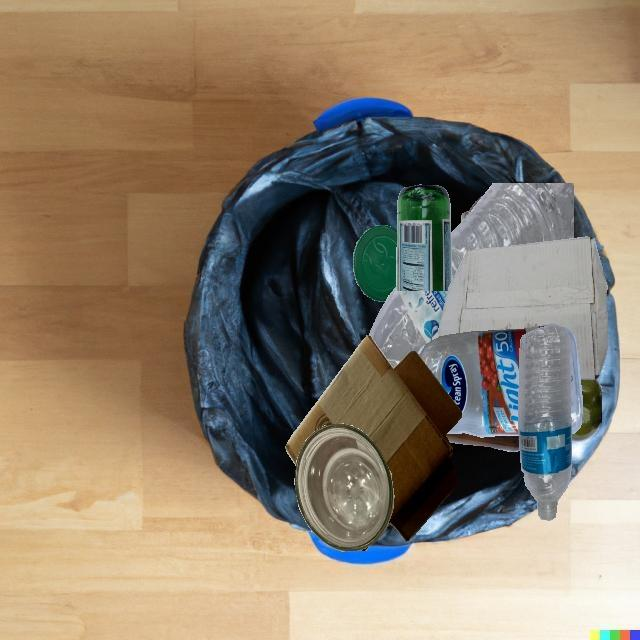cardboard: (285, 334, 462, 541), (438, 237, 608, 380)
glass: (294, 423, 394, 551), (396, 184, 452, 291), (571, 380, 602, 442), (445, 433, 520, 452)
plastic: (419, 323, 583, 437), (451, 183, 574, 280), (518, 325, 572, 520), (369, 286, 447, 367), (353, 225, 397, 302), (461, 194, 484, 223)
